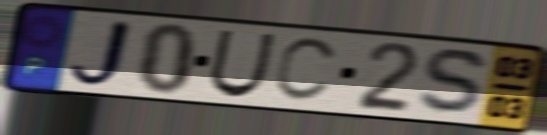0: (132, 20, 201, 97)
2: (356, 40, 423, 116)
C: (271, 36, 343, 105)
J: (65, 16, 137, 91)
S: (414, 46, 494, 119)
U: (205, 27, 279, 100)
